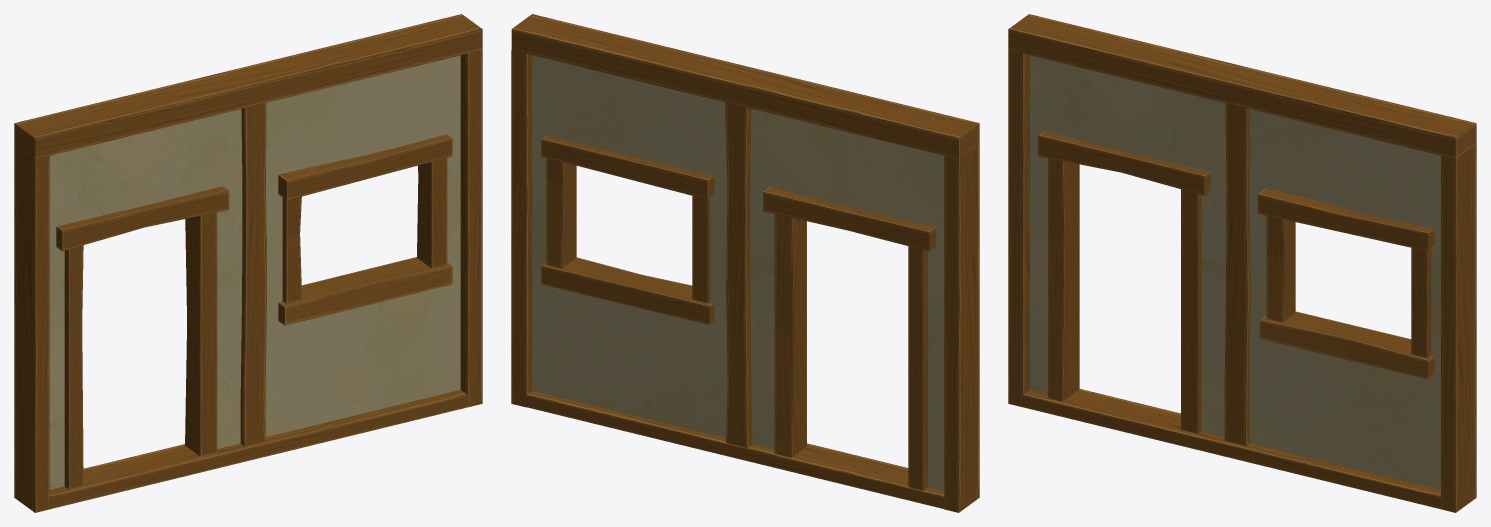
The model's file is SM_House_Wall_5x4_Door_A_02.fbx.
The picture shows the model from 3 angles, left to right: view 1: azimuth 30°, elevation 25°; view 2: azimuth 150°, elevation 25°; view 3: azimuth 330°, elevation 25°; orthographic projection.
Parts seen in each view (by area): view 1: SM_House_Wall_5x4_Door_A_02; view 2: SM_House_Wall_5x4_Door_A_02; view 3: SM_House_Wall_5x4_Door_A_02.
Boxes of the visible parts, x1,y1,x2,y2 form: SM_House_Wall_5x4_Door_A_02: (14, 14, 482, 512); SM_House_Wall_5x4_Door_A_02: (511, 14, 979, 512); SM_House_Wall_5x4_Door_A_02: (1008, 14, 1476, 512).
Size of the model in its own units: 5 by 4 by 0.4437.
